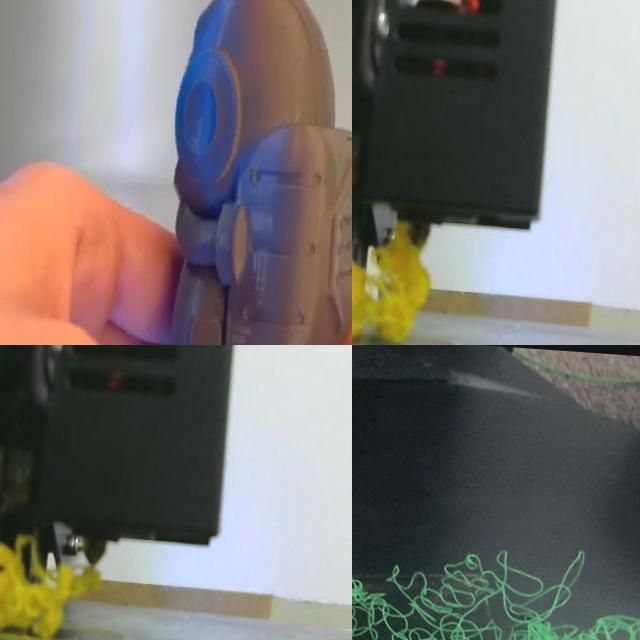spaghetti: (352, 551, 640, 640), (0, 538, 109, 640), (352, 217, 433, 345)
